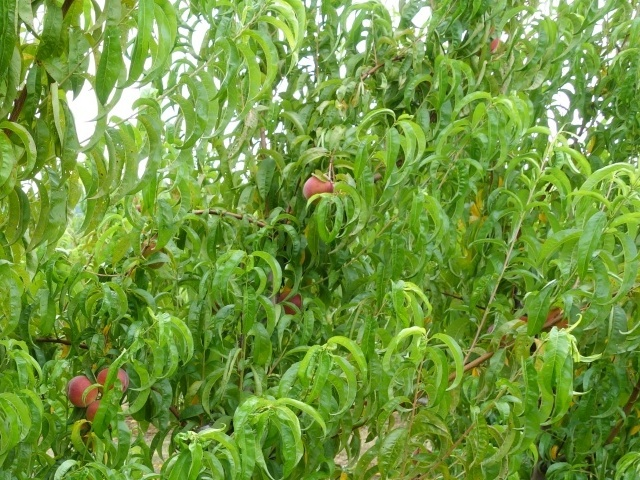peach: (299, 167, 340, 206), (92, 363, 133, 397), (61, 372, 99, 407), (276, 287, 306, 316), (83, 391, 110, 421)
